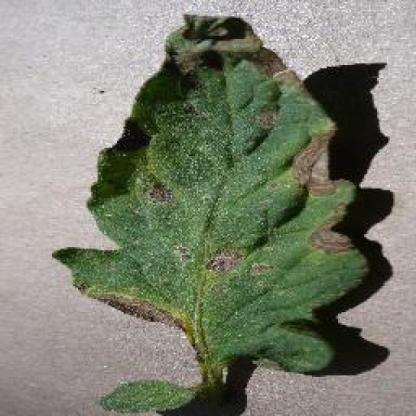Tomato_Blight: (51, 14, 367, 372)
